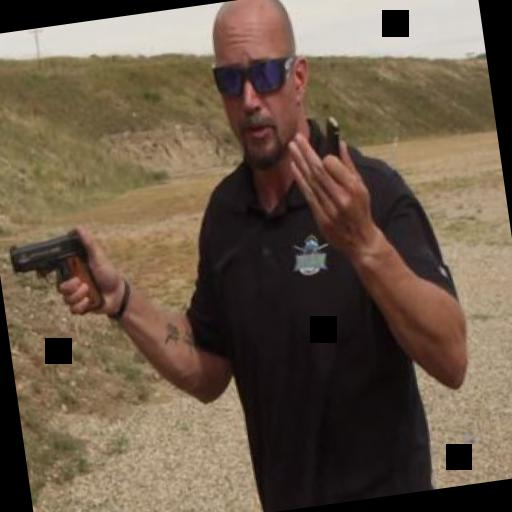Handgun: (3, 220, 106, 324)
